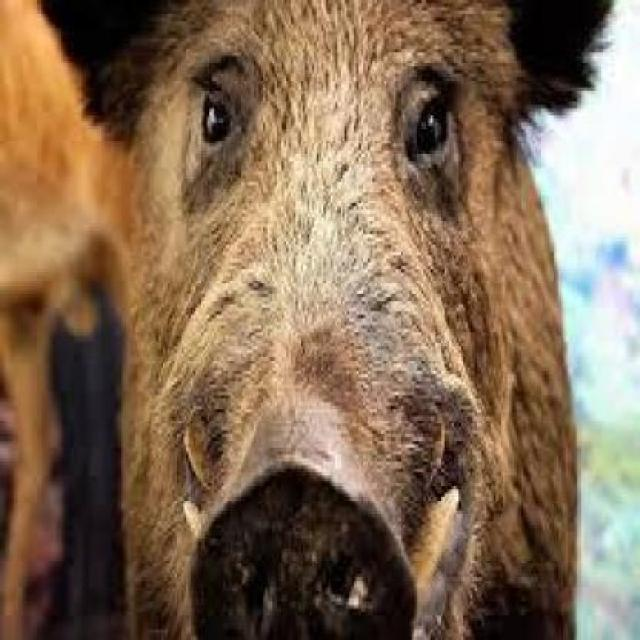wildboar: (28, 0, 620, 640)
